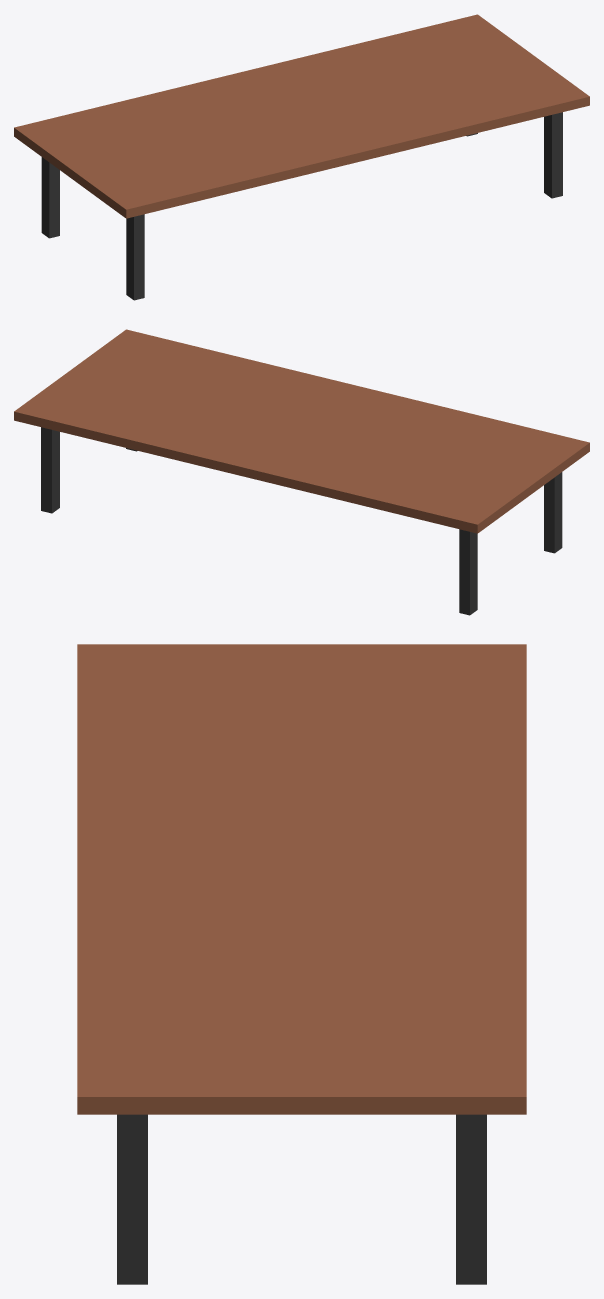
File: table_3.glb
The picture shows the model from 3 angles, top to bottom: view 1: azimuth 30°, elevation 25°; view 2: azimuth 150°, elevation 25°; view 3: azimuth 270°, elevation 25°; orthographic projection. The views are drawn at different scales.
Visible parts, largest first — view 1: 立方体.004; view 2: 立方体.004; view 3: 立方体.004.
Boxes of the visible parts, x1,y1,x2,y2 form: 立方体.004: (14,14,589,300); 立方体.004: (14,329,589,615); 立方体.004: (77,644,526,1284).
Bounding box in the file's own units: 1.92 × 0.4044 × 0.804.
